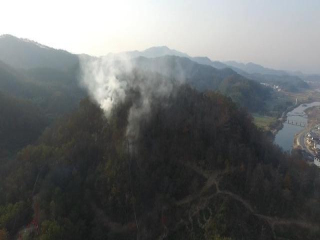smoke: (76, 49, 188, 134)
